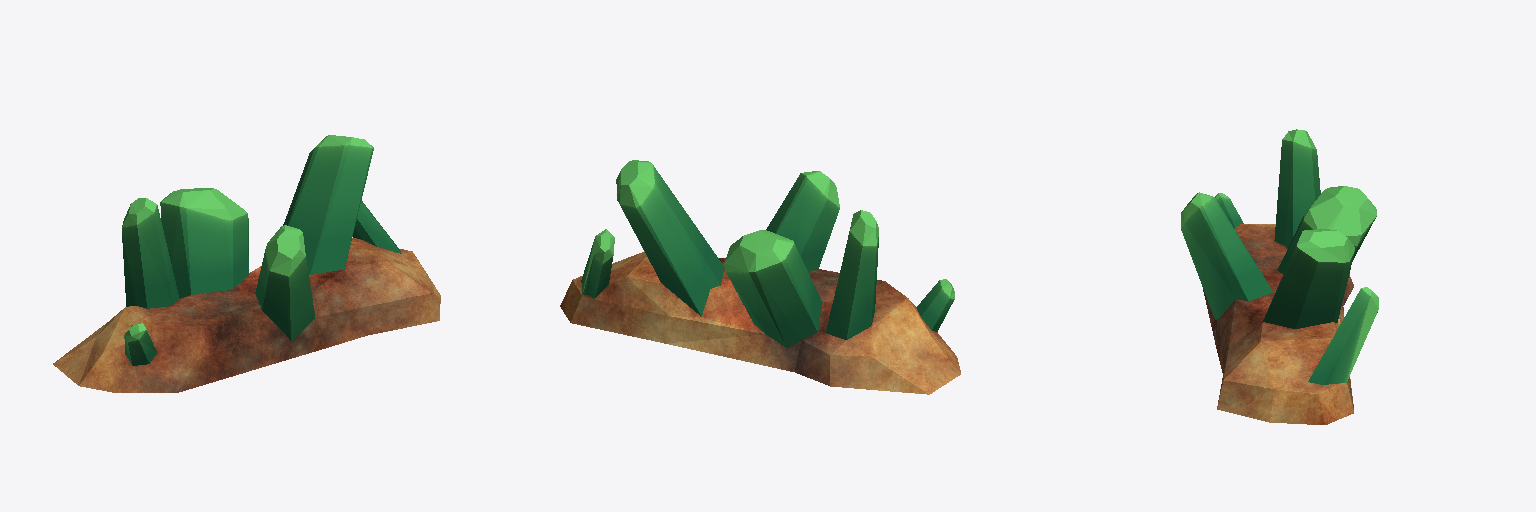
3 renders of one model, left to right at view 1: azimuth 30°, elevation 25°; view 2: azimuth 150°, elevation 25°; view 3: azimuth 270°, elevation 25°, orthographic.
Visible parts, largest first — view 1: crystals; view 2: crystals; view 3: crystals.
Boxes of the visible parts, <box> form: crystals: <box>53,135,440,392</box>; crystals: <box>560,160,960,394</box>; crystals: <box>1181,129,1378,424</box>.
Bounding box in the file's own units: 7.47 × 3.04 × 3.47.
1 materials, 1 textured.